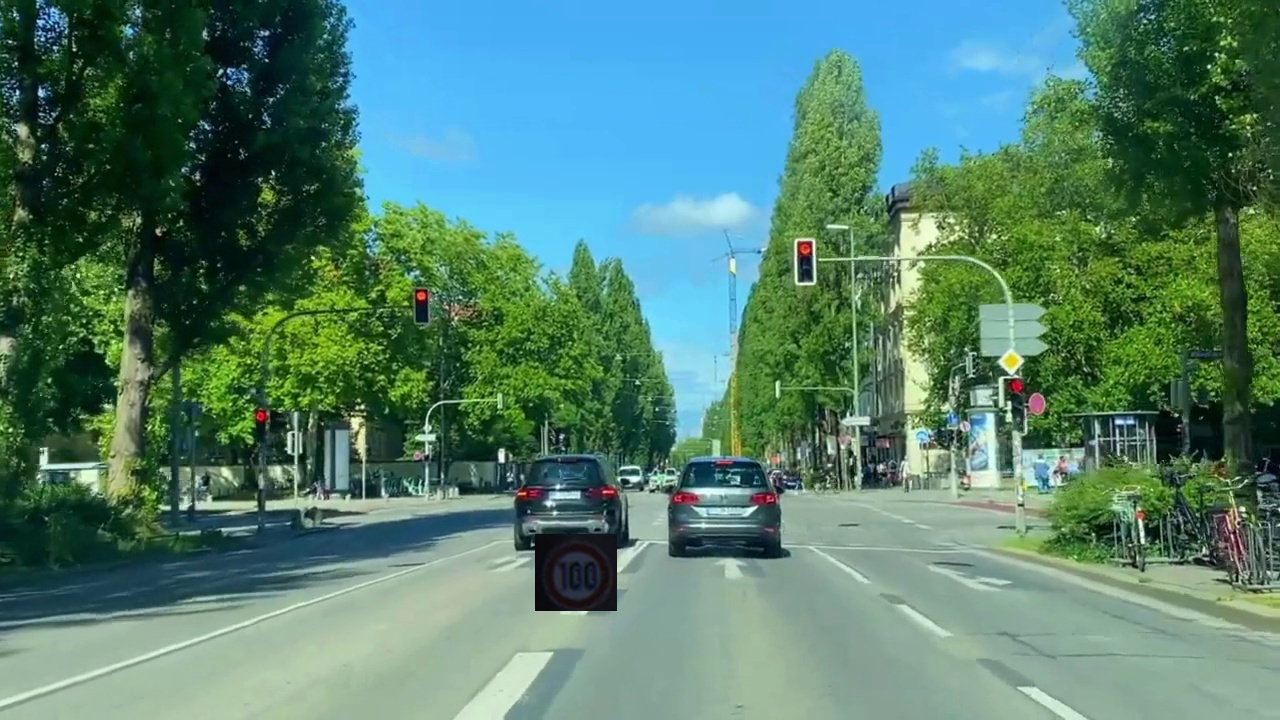Speed 100: (535, 534, 617, 611)
